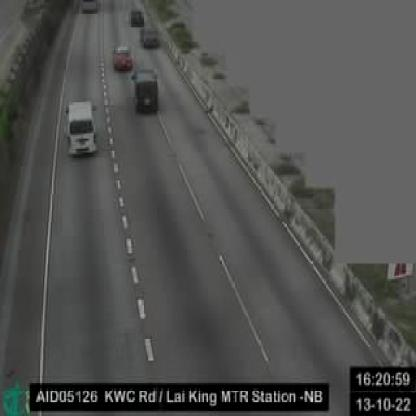Car: (67, 100, 97, 158), (134, 70, 160, 116), (113, 45, 134, 73), (142, 27, 160, 49), (131, 9, 144, 26)
